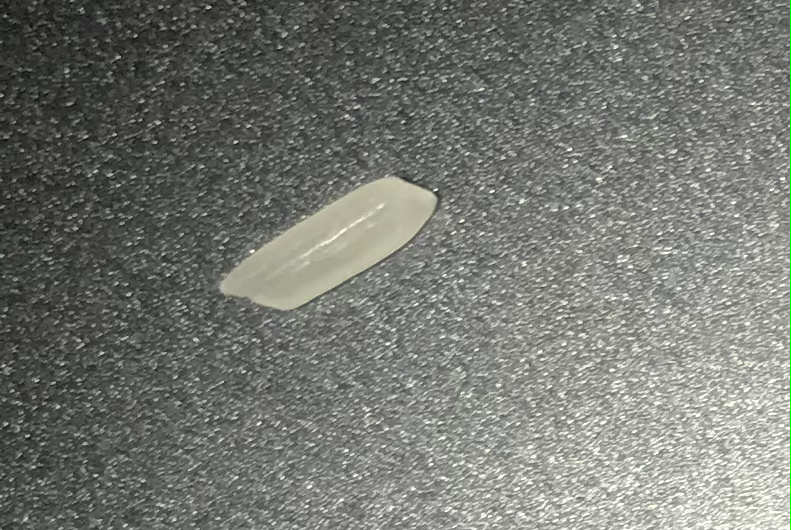Gao Long Lai: (217, 177, 441, 313)
